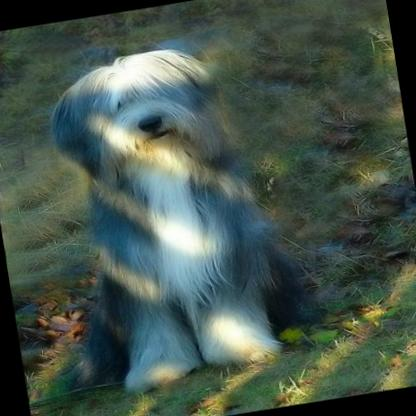Old_English_sheepdog: (7, 25, 334, 406)
